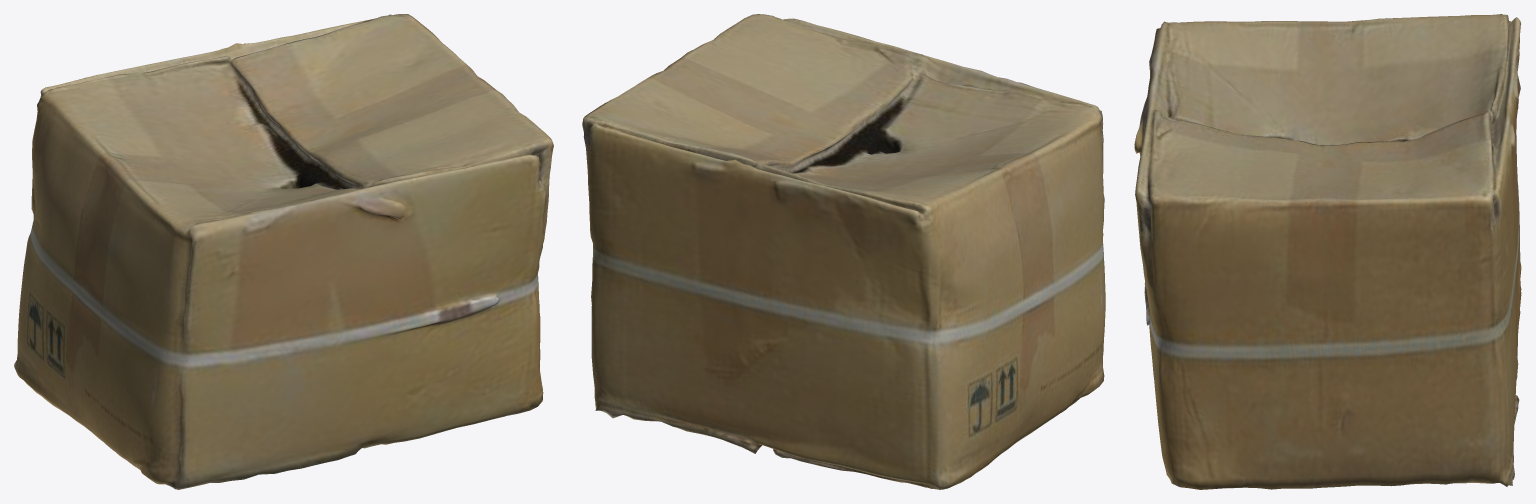
The model's file is kardus.glb.
The picture shows the model from 3 angles, left to right: view 1: azimuth 30°, elevation 25°; view 2: azimuth 150°, elevation 25°; view 3: azimuth 270°, elevation 25°; orthographic projection. The views are drawn at different scales.
Parts seen in each view (by area): view 1: cardboard_box_01; view 2: cardboard_box_01; view 3: cardboard_box_01.
Boxes of the visible parts, x1,y1,x2,y2 form: cardboard_box_01: (14, 14, 553, 489); cardboard_box_01: (582, 14, 1105, 489); cardboard_box_01: (1134, 14, 1521, 489).
Size of the model in its own units: 0.5 by 0.35 by 0.4.
1 material, 1 textured.
